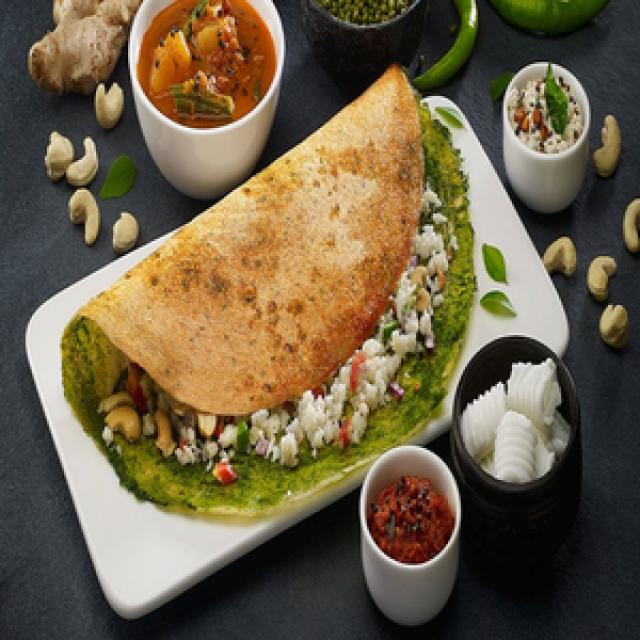dosa: (54, 54, 487, 528)
